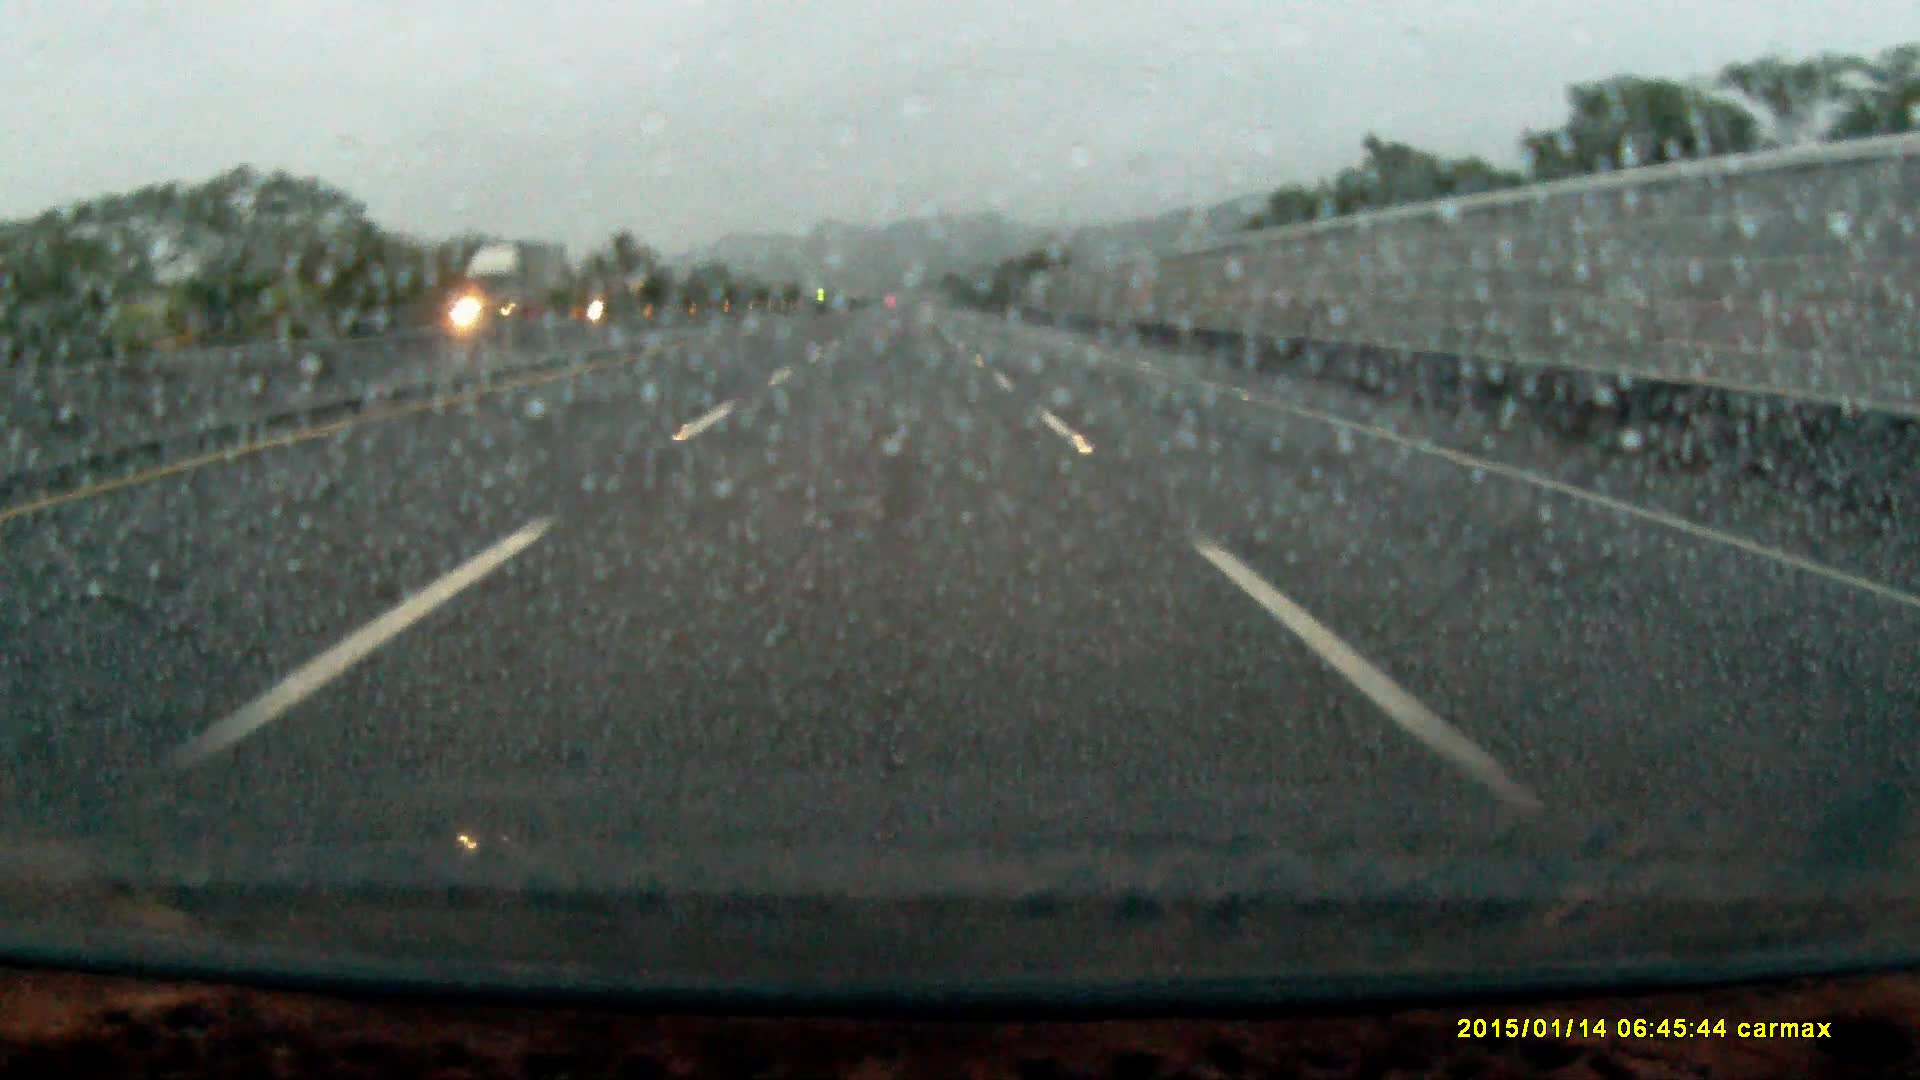vehicle: (452, 243, 574, 318)
